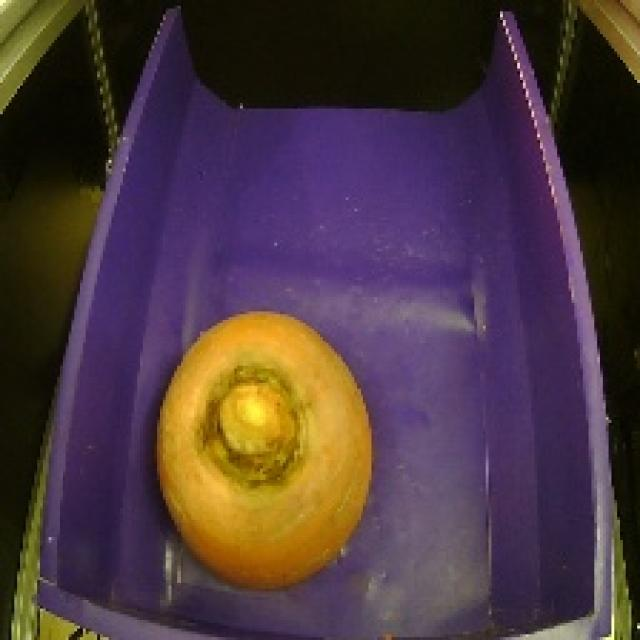carrots: (137, 300, 380, 591)
